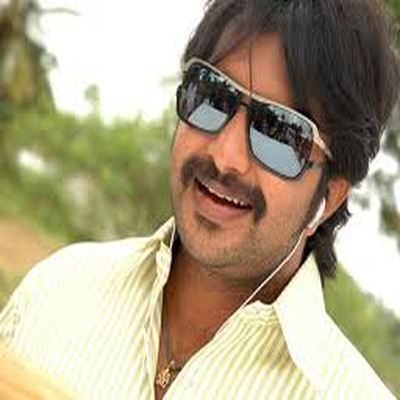eywear: (173, 44, 345, 186)
